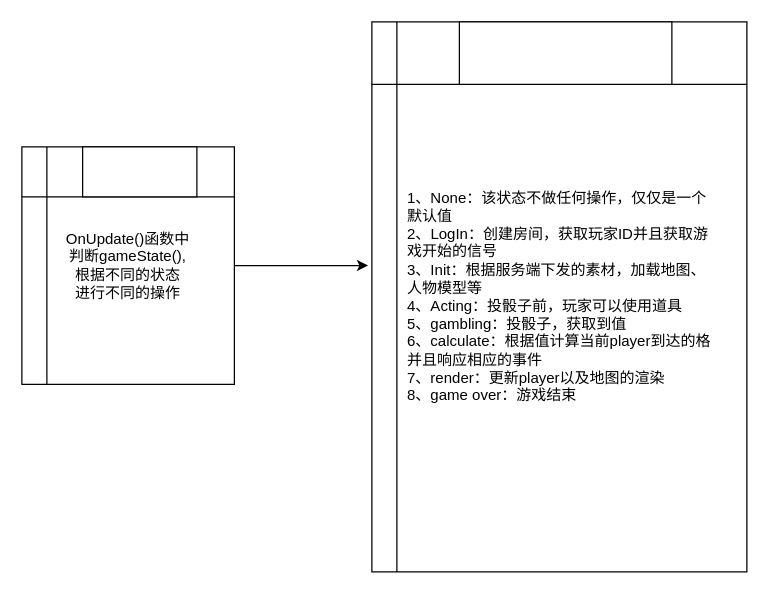
Some shapes in this 769 by 594 pixel diagram are drawn without their labels. The centre of each missing label's shape, as x and y in pixels:
gameLayer: the point at 139,171
gameState（游戏状态）: the point at 565,52
